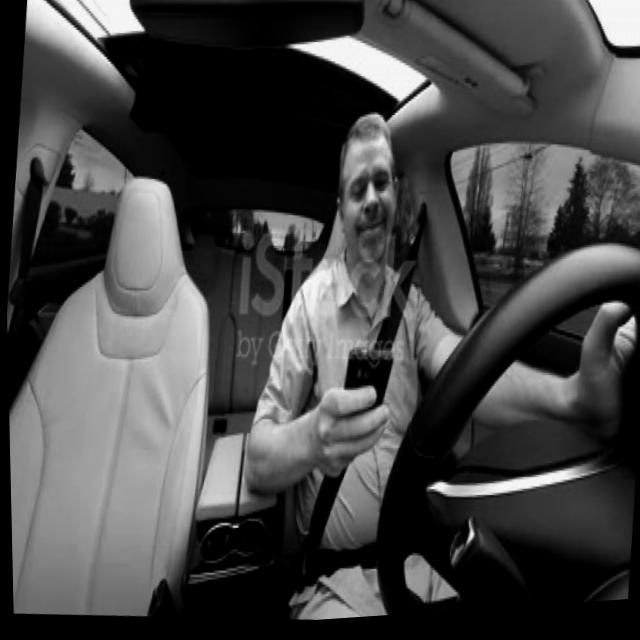PhoneCall: (336, 346, 394, 448)
